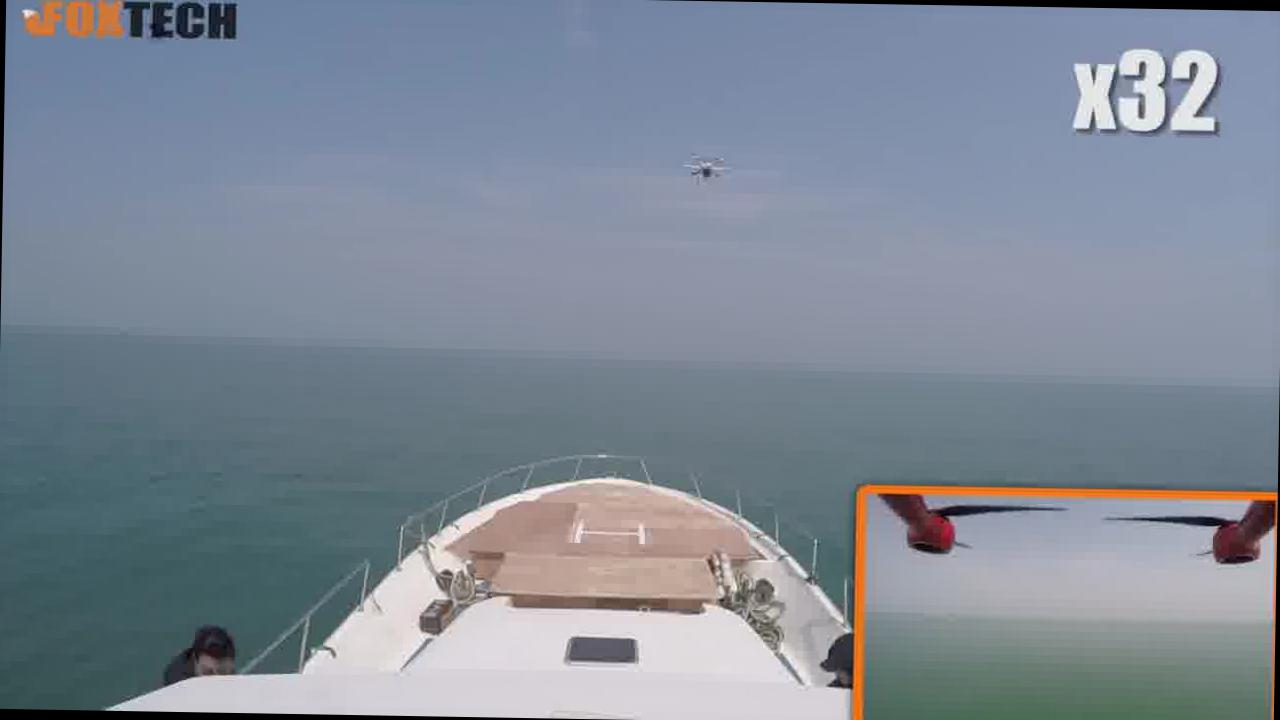drone: (677, 146, 734, 195)
